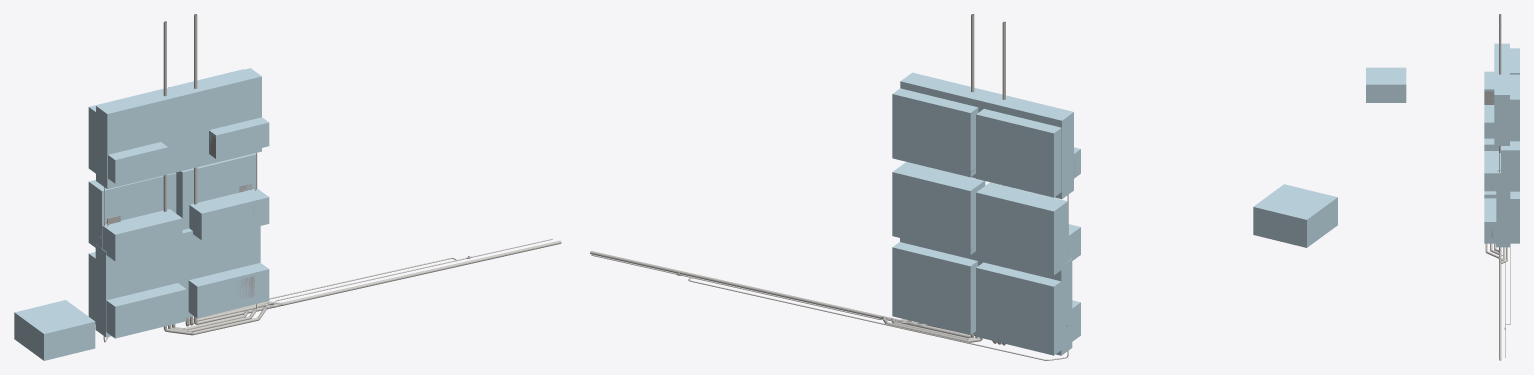
The picture shows the model from 3 angles, left to right: view 1: azimuth 30°, elevation 25°; view 2: azimuth 150°, elevation 25°; view 3: azimuth 270°, elevation 25°; orthographic projection. The views are drawn at different scales.
Parts seen in each view (by area): view 1: 1ufQAGx71FPA7IqNDDJgVR, 3bUT2ghKLFxR37$x93VHGY, 10GVZyMUP4MeYG5n5skH9R, 1Va7KA13P9dg4_ReJZYetD, 1EG6LaBJT8K9WTLOndlLo3, 19oBEzIr12XQFWDJIclsZ3, 0V8g4d48nBE9dNHD9_kAtD, 0nScfNko1AM999BDV_lSPJ, 1LBaL88BrC7h7vCPC1bzuZ, 148FlNlY1ArvIG8TRazvTY, 1cGb7teUj9oQtNRvl3ZlZV, 2CnVe0t1D4JPp2RITKNsN_ (+6 smaller); view 2: 10GVZyMUP4MeYG5n5skH9R, 0V8g4d48nBE9dNHD9_kAtD, 2VcELfha56NwrDJ4hHcSf9, 3wWJPZ9ez6r9$PEyMfx389, 3xsxb62WH8n9zHiwa8zpqj, 3VZAV33hrEPelkveqCxT4O, 1ufQAGx71FPA7IqNDDJgVR, 3bUT2ghKLFxR37$x93VHGY, 3bqKpKsIL3Q9nKkGagM22I, 0fQX3XrzX0jB4L87FgkF6w, 1bvAMtgIjD6OjyyTaC_0Eq, 2CnVe0t1D4JPp2RITKNsN_ (+3 smaller); view 3: 1ufQAGx71FPA7IqNDDJgVR, 3VZAV33hrEPelkveqCxT4O, 3wWJPZ9ez6r9$PEyMfx389, 0V8g4d48nBE9dNHD9_kAtD, 3bI0x6k6P4mQNMoCClJBU6, 0nScfNko1AM999BDV_lSPJ, 1Va7KA13P9dg4_ReJZYetD, 148FlNlY1ArvIG8TRazvTY, 0LX8AkxeD4eRCRe20XuWLu, 3bUT2ghKLFxR37$x93VHGY, 2CnVe0t1D4JPp2RITKNsN_, 0Uxvd_nrzC1wELaGDVFgiv (+8 smaller).
Part boxes in pixels (bbox=[...]): 1ufQAGx71FPA7IqNDDJgVR: bbox=[96, 68, 261, 189]; 3bUT2ghKLFxR37$x93VHGY: bbox=[95, 226, 260, 337]; 10GVZyMUP4MeYG5n5skH9R: bbox=[88, 172, 176, 248]; 1Va7KA13P9dg4_ReJZYetD: bbox=[188, 263, 269, 318]; 1EG6LaBJT8K9WTLOndlLo3: bbox=[106, 283, 186, 338]; 19oBEzIr12XQFWDJIclsZ3: bbox=[102, 209, 182, 261]; 0V8g4d48nBE9dNHD9_kAtD: bbox=[176, 153, 257, 229]; 0nScfNko1AM999BDV_lSPJ: bbox=[189, 188, 269, 240]; 1LBaL88BrC7h7vCPC1bzuZ: bbox=[108, 142, 167, 183]; 148FlNlY1ArvIG8TRazvTY: bbox=[209, 117, 269, 158]; 1cGb7teUj9oQtNRvl3ZlZV: bbox=[44, 322, 95, 360]; 2CnVe0t1D4JPp2RITKNsN_: bbox=[283, 240, 561, 305]; 10GVZyMUP4MeYG5n5skH9R: bbox=[976, 182, 1067, 275]; 0V8g4d48nBE9dNHD9_kAtD: bbox=[892, 162, 985, 254]; 2VcELfha56NwrDJ4hHcSf9: bbox=[976, 262, 1061, 355]; 3wWJPZ9ez6r9$PEyMfx389: bbox=[892, 242, 977, 335]; 3xsxb62WH8n9zHiwa8zpqj: bbox=[976, 109, 1061, 197]; 3VZAV33hrEPelkveqCxT4O: bbox=[892, 88, 978, 177]; 1ufQAGx71FPA7IqNDDJgVR: bbox=[900, 72, 1073, 199]; 3bUT2ghKLFxR37$x93VHGY: bbox=[900, 238, 1072, 355]; 3bqKpKsIL3Q9nKkGagM22I: bbox=[1254, 185, 1333, 242]; 0fQX3XrzX0jB4L87FgkF6w: bbox=[1255, 184, 1334, 217]; 1bvAMtgIjD6OjyyTaC_0Eq: bbox=[1253, 207, 1306, 247]; 2CnVe0t1D4JPp2RITKNsN_: bbox=[590, 251, 881, 318]; 1ufQAGx71FPA7IqNDDJgVR: bbox=[1494, 43, 1509, 145]; 3VZAV33hrEPelkveqCxT4O: bbox=[1501, 74, 1519, 141]; 3wWJPZ9ez6r9$PEyMfx389: bbox=[1501, 191, 1519, 243]; 0V8g4d48nBE9dNHD9_kAtD: bbox=[1501, 141, 1519, 191]; 3bI0x6k6P4mQNMoCClJBU6: bbox=[1366, 67, 1406, 102]; 0nScfNko1AM999BDV_lSPJ: bbox=[1484, 151, 1500, 191]; 1Va7KA13P9dg4_ReJZYetD: bbox=[1484, 198, 1500, 243]; 148FlNlY1ArvIG8TRazvTY: bbox=[1484, 105, 1500, 138]; 0LX8AkxeD4eRCRe20XuWLu: bbox=[1366, 68, 1406, 84]; 3bUT2ghKLFxR37$x93VHGY: bbox=[1496, 191, 1510, 247]; 2CnVe0t1D4JPp2RITKNsN_: bbox=[1499, 263, 1501, 360]; 0Uxvd_nrzC1wELaGDVFgiv: bbox=[1366, 70, 1405, 84].
Size of the model in its own units: 23.98 by 11.84 by 7.66.
